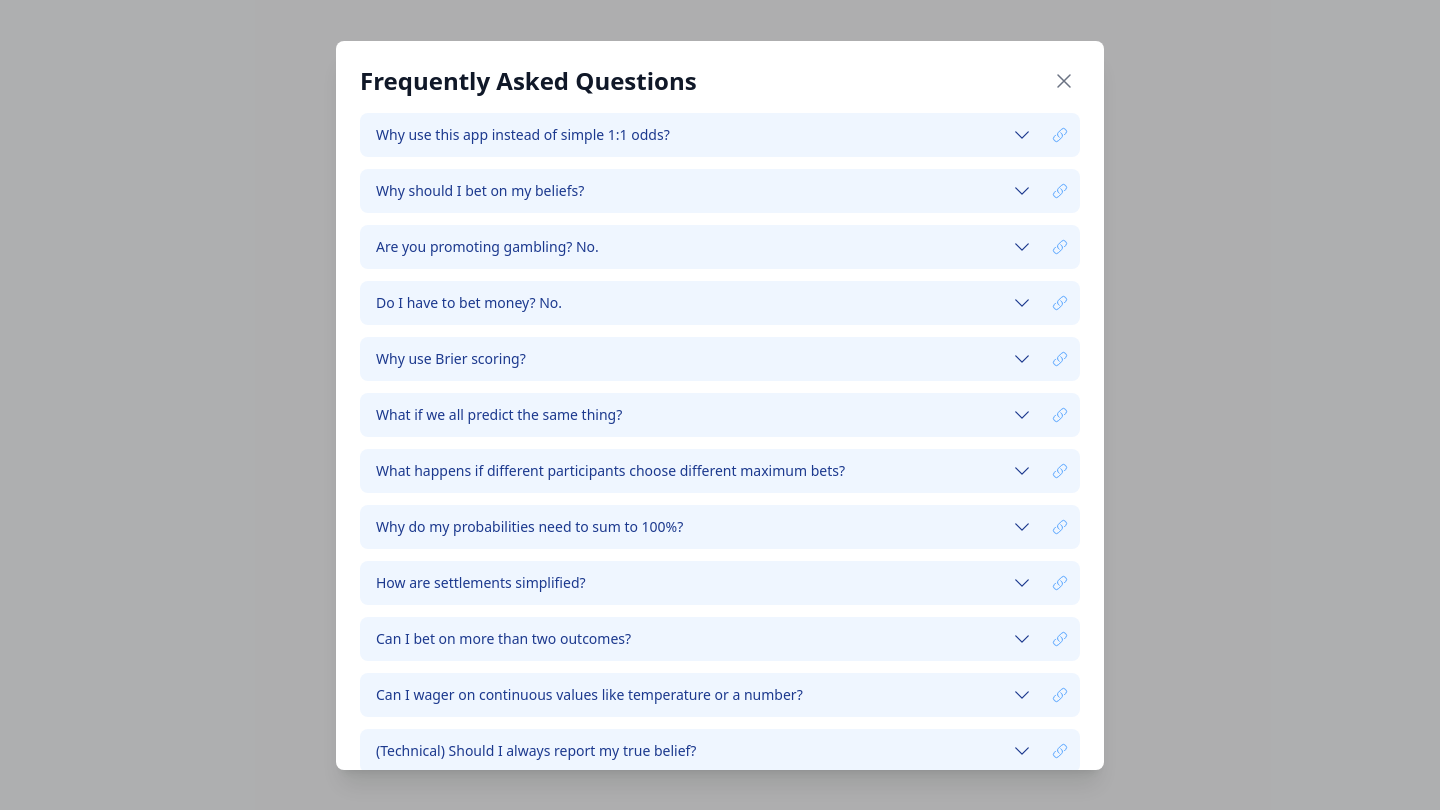
it: HelpModal › collapses disclosure content when clicked again
The width and height of the screenshot is (1440, 810).
Click the button "Why use Brier scoring?".
click(451, 358)  # box [360,336,1048,380]
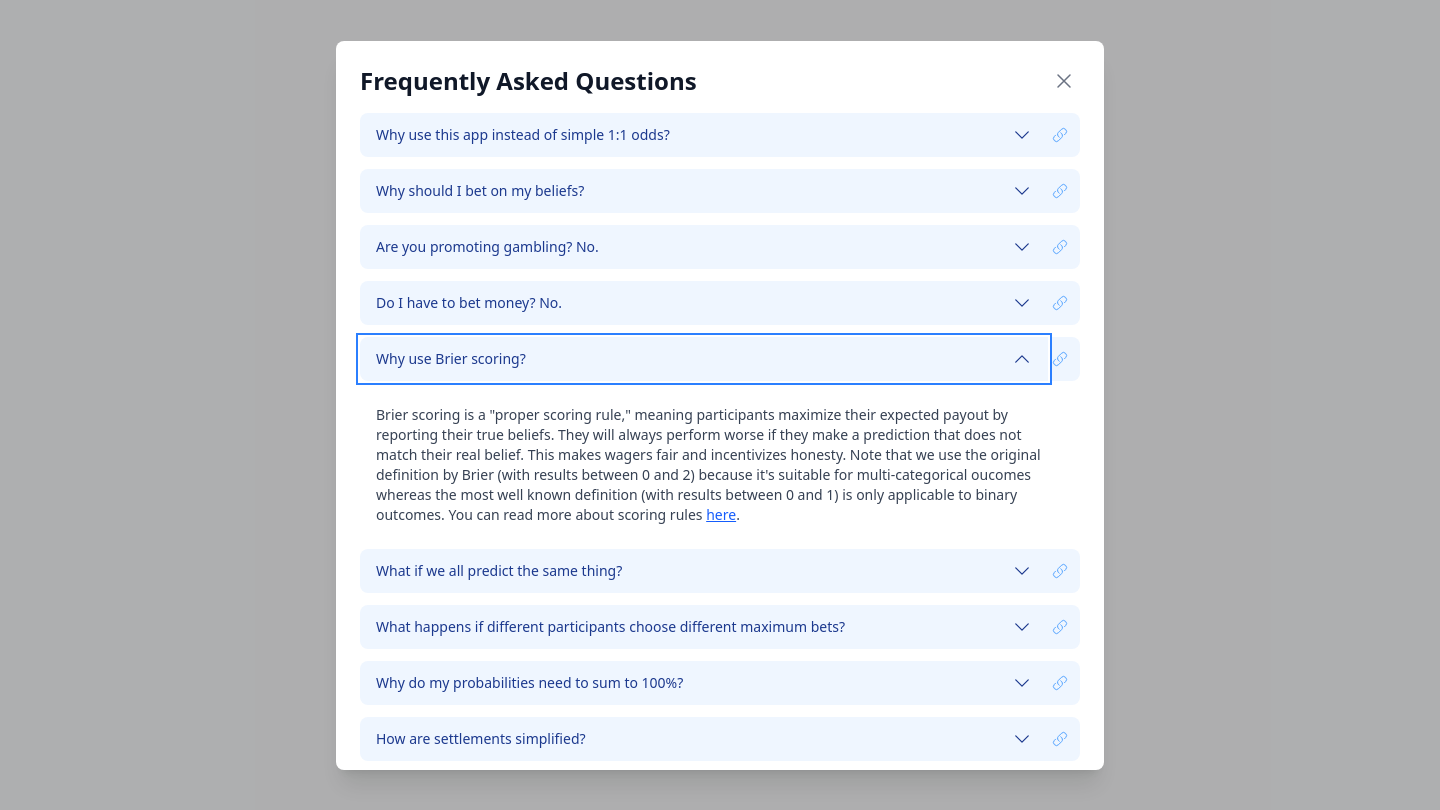
Check: the text "proper scoring rule" is shown, box [376,404,1041,524]
Click the button "Why use Brier scoring?".
click(451, 358)  # box [360,336,1048,380]
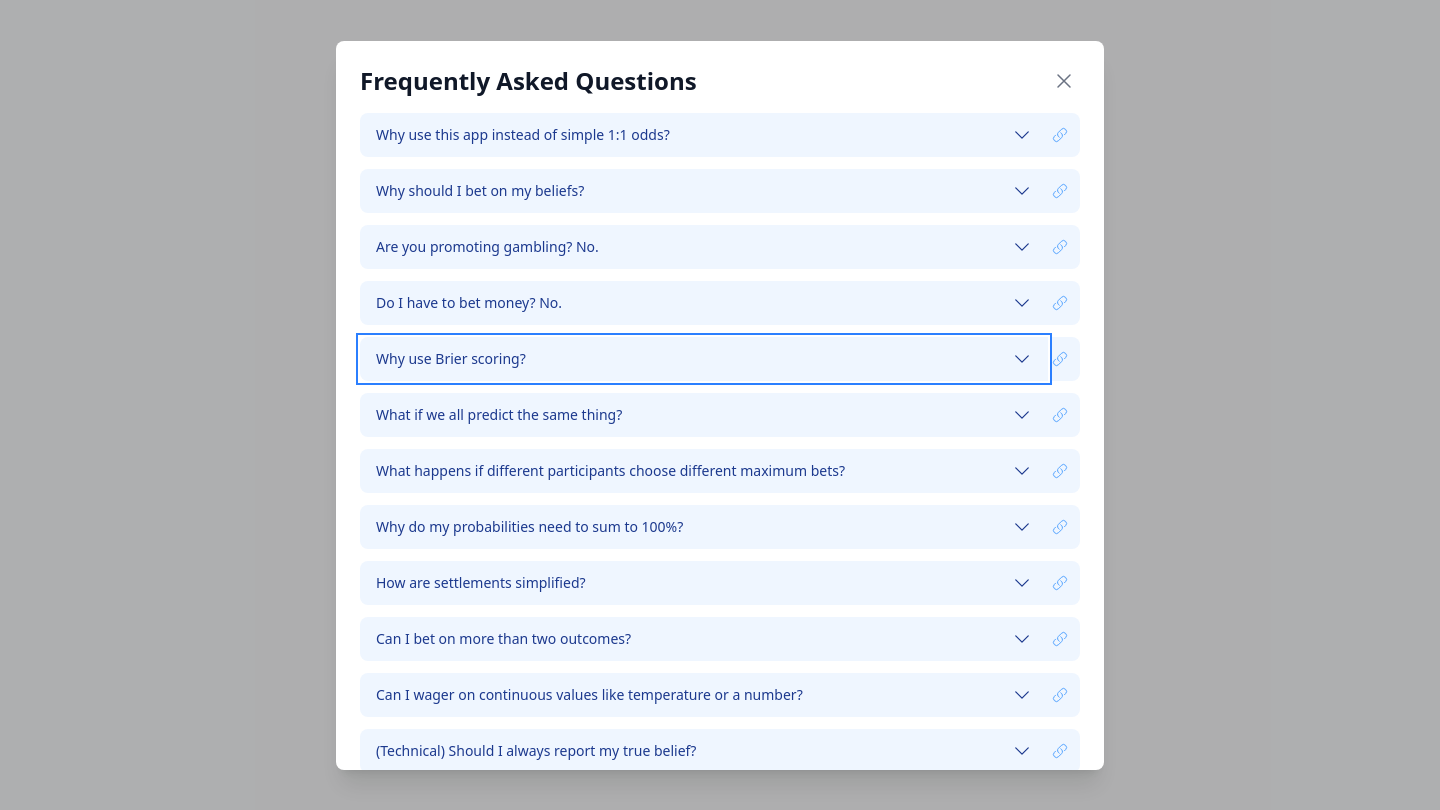
Check: the text "proper scoring rule" is gone
